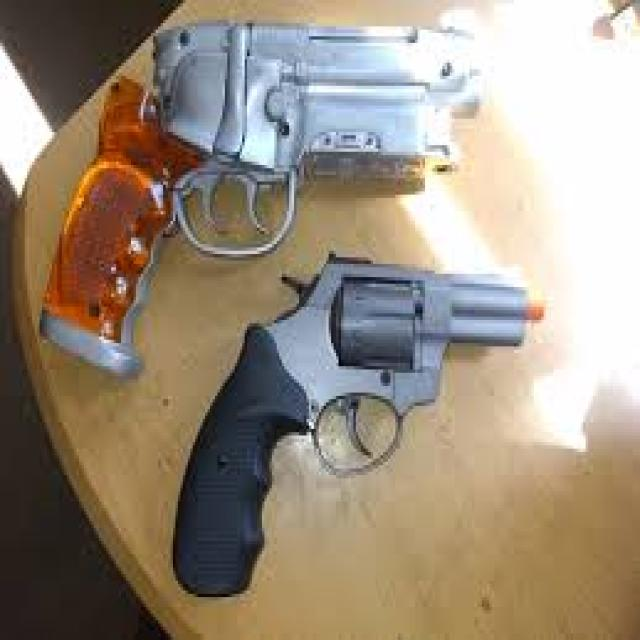Gun: (88, 8, 539, 393), (154, 228, 556, 595)
